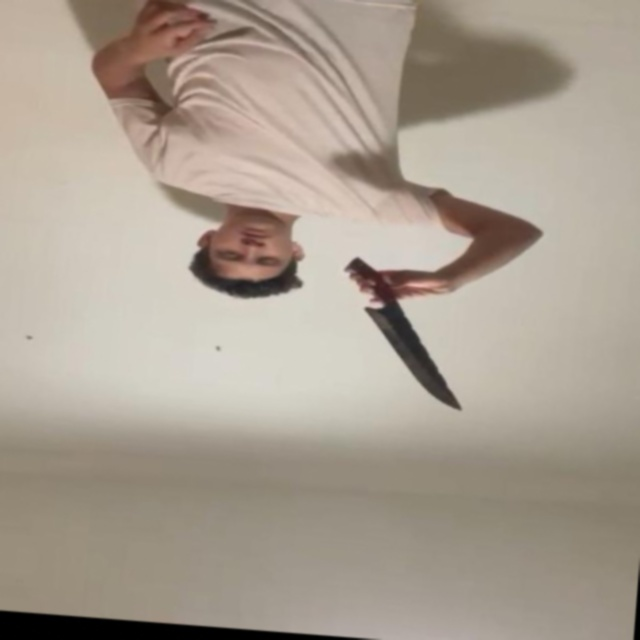Sharp-Object: (356, 303, 473, 413)
